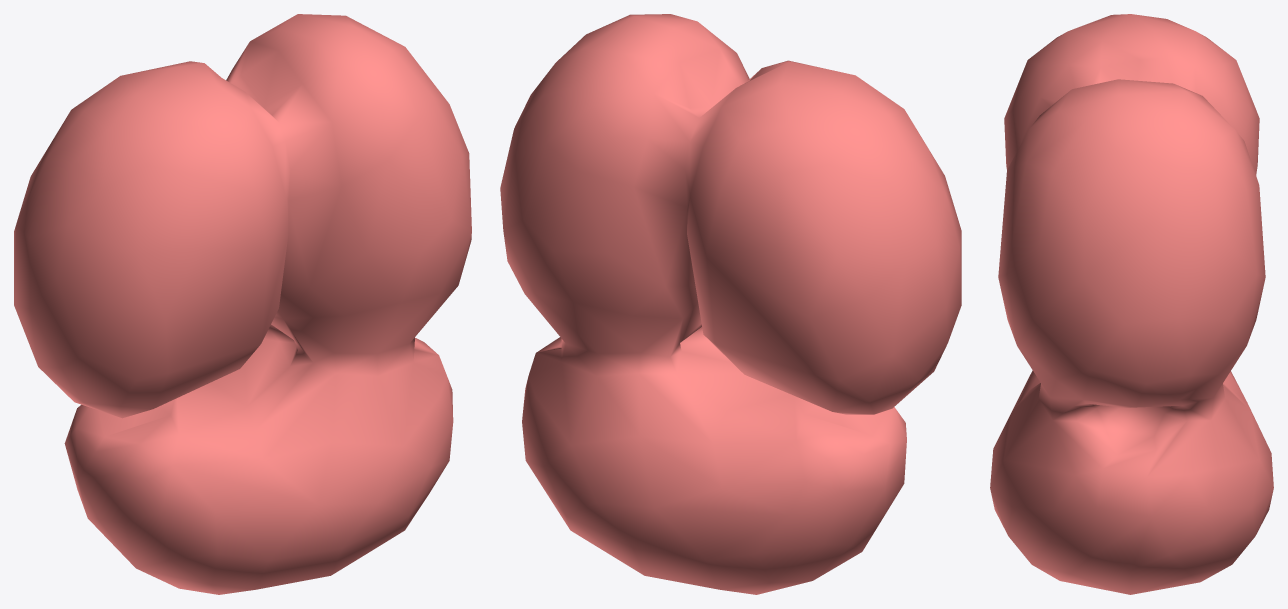
The model's file is ribosome.glb.
The picture shows the model from 3 angles, left to right: view 1: azimuth 30°, elevation 25°; view 2: azimuth 150°, elevation 25°; view 3: azimuth 270°, elevation 25°; orthographic projection.
Parts seen in each view (by area): view 1: Ribosome; view 2: Ribosome; view 3: Ribosome.
Part boxes in pixels (box(x1,y1,x2,y2)): Ribosome: box(14, 14, 471, 594); Ribosome: box(500, 14, 961, 594); Ribosome: box(990, 14, 1273, 594).
Size of the model in its own units: 0.1499 by 0.1779 by 0.0872.
